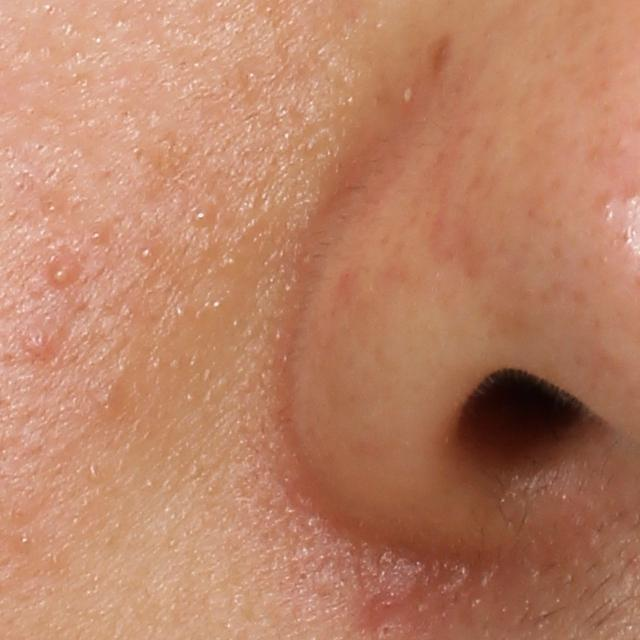comedo: (93, 383, 123, 418), (131, 241, 158, 264), (192, 205, 216, 228), (89, 227, 108, 244), (15, 532, 32, 548), (172, 301, 187, 318)
papule: (15, 323, 68, 368)
pustule: (42, 253, 85, 287)
